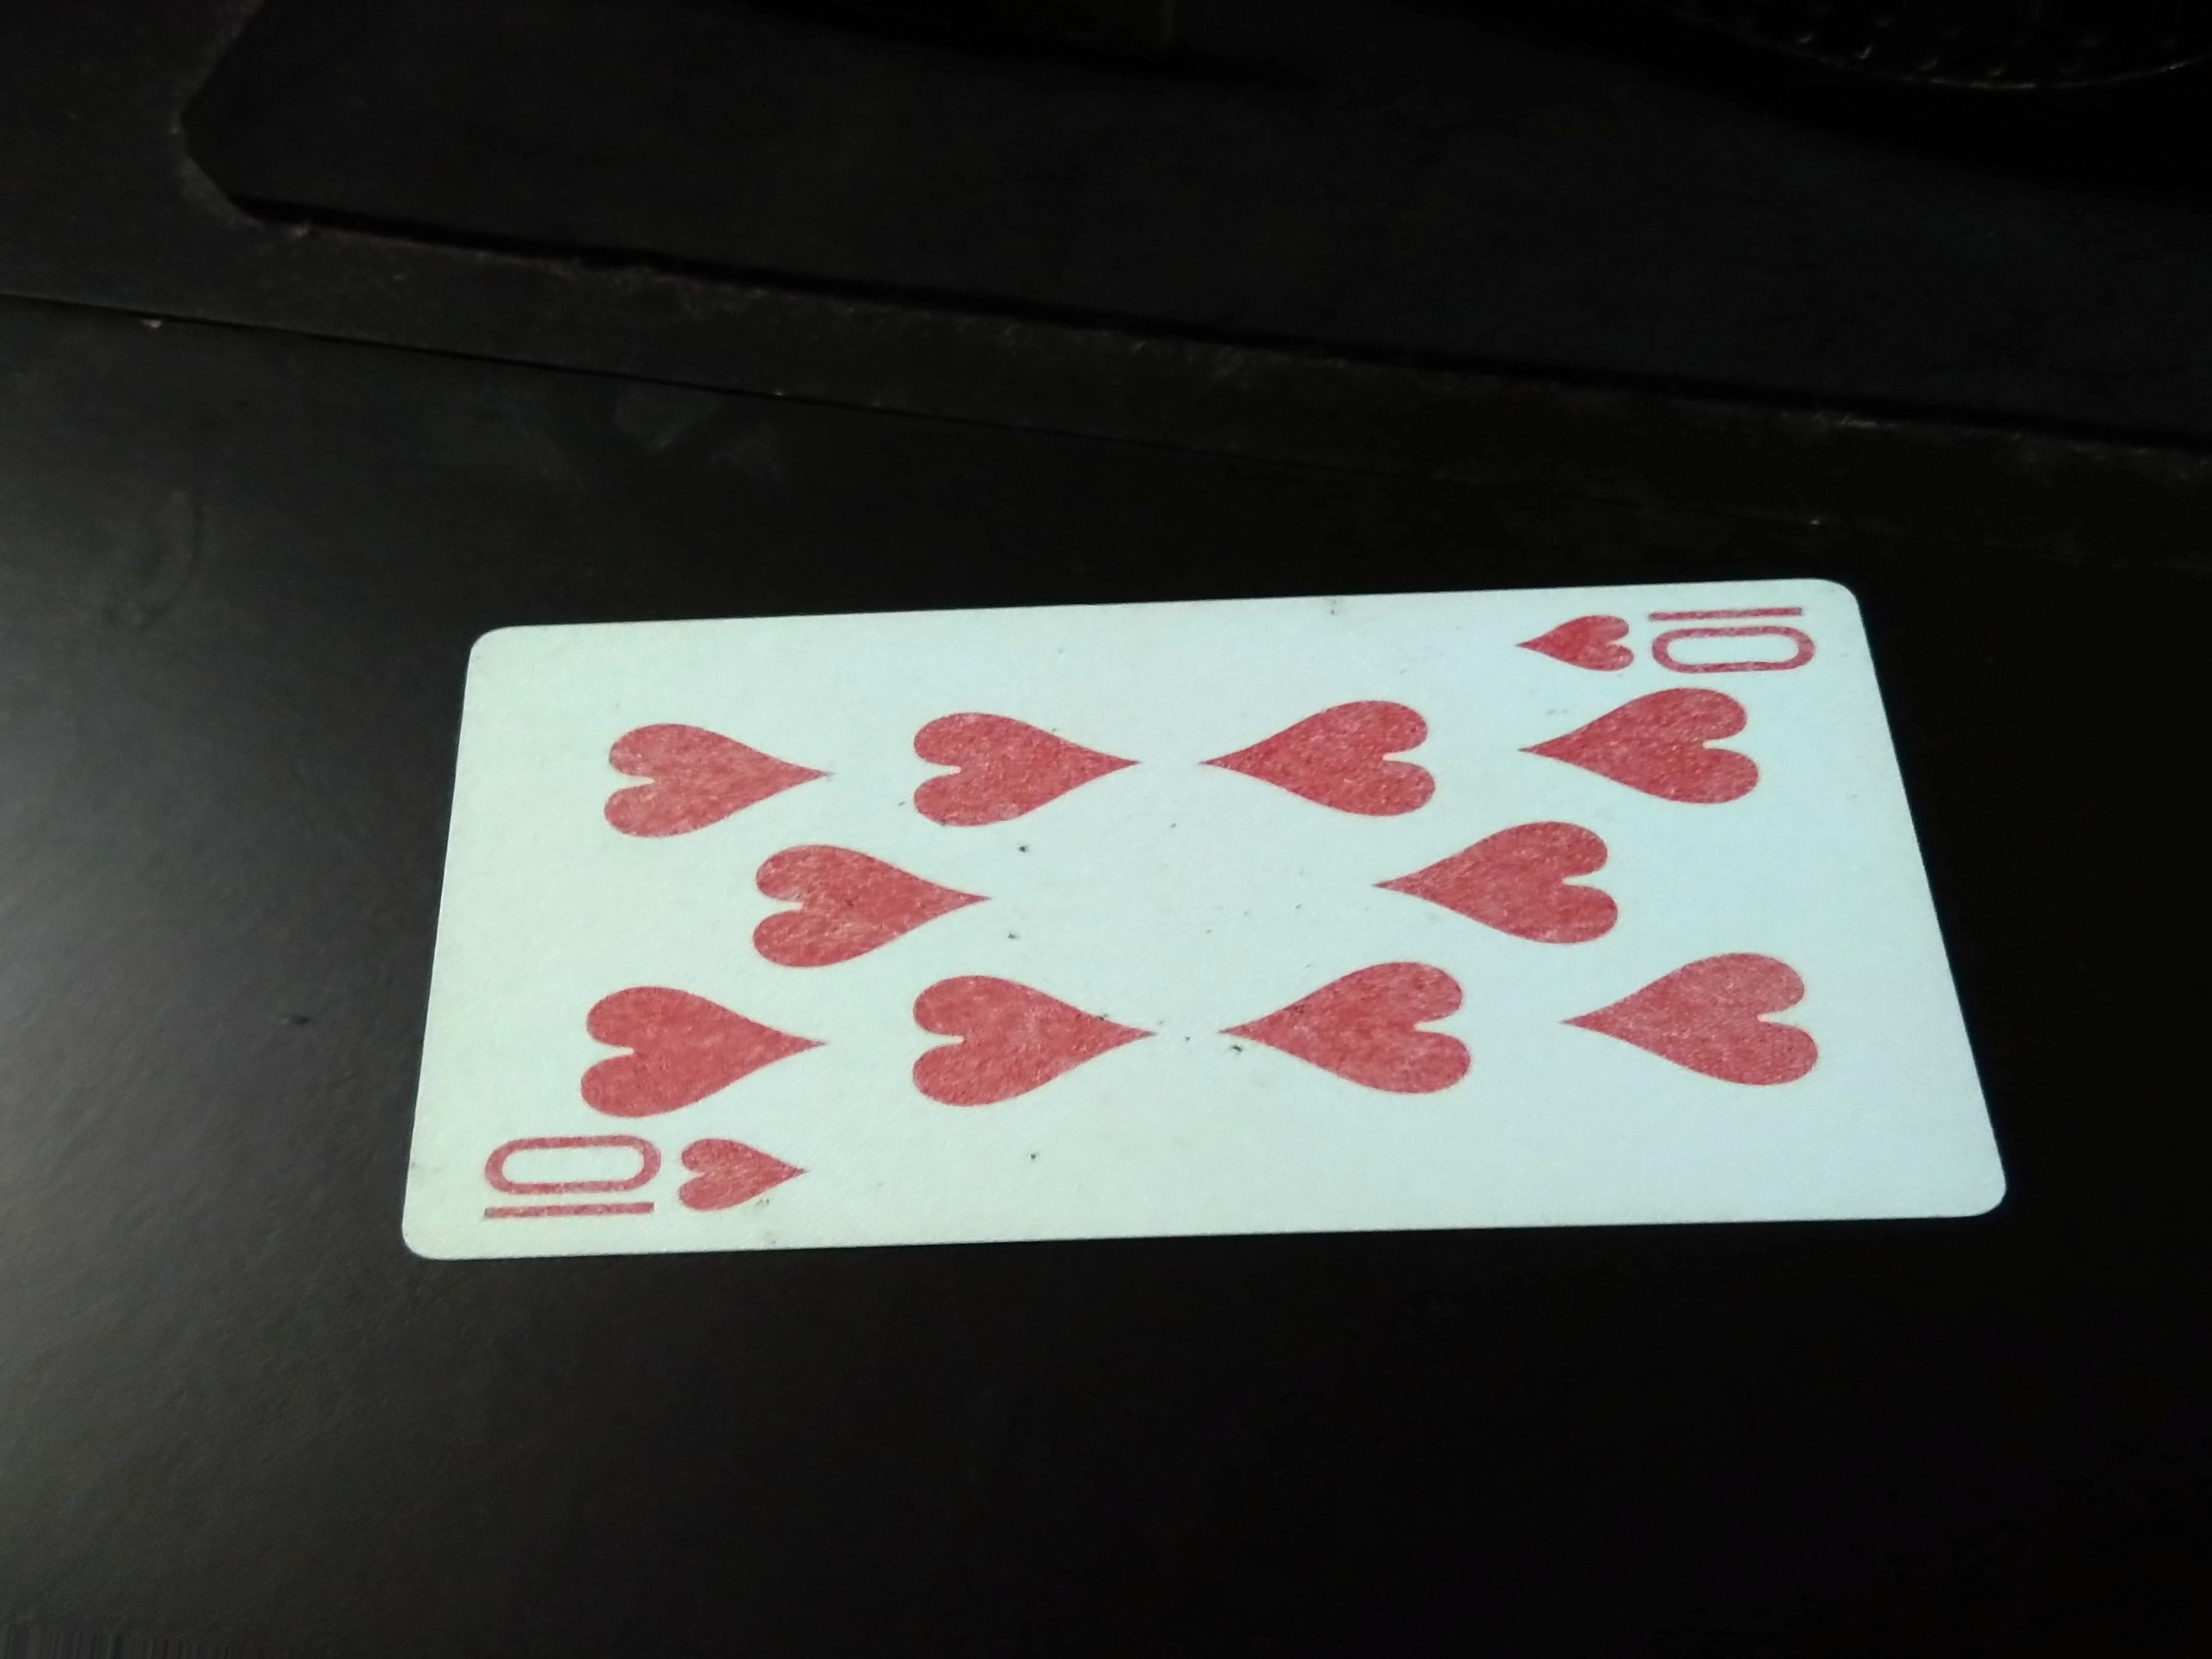10H: (467, 1124, 815, 1234)
